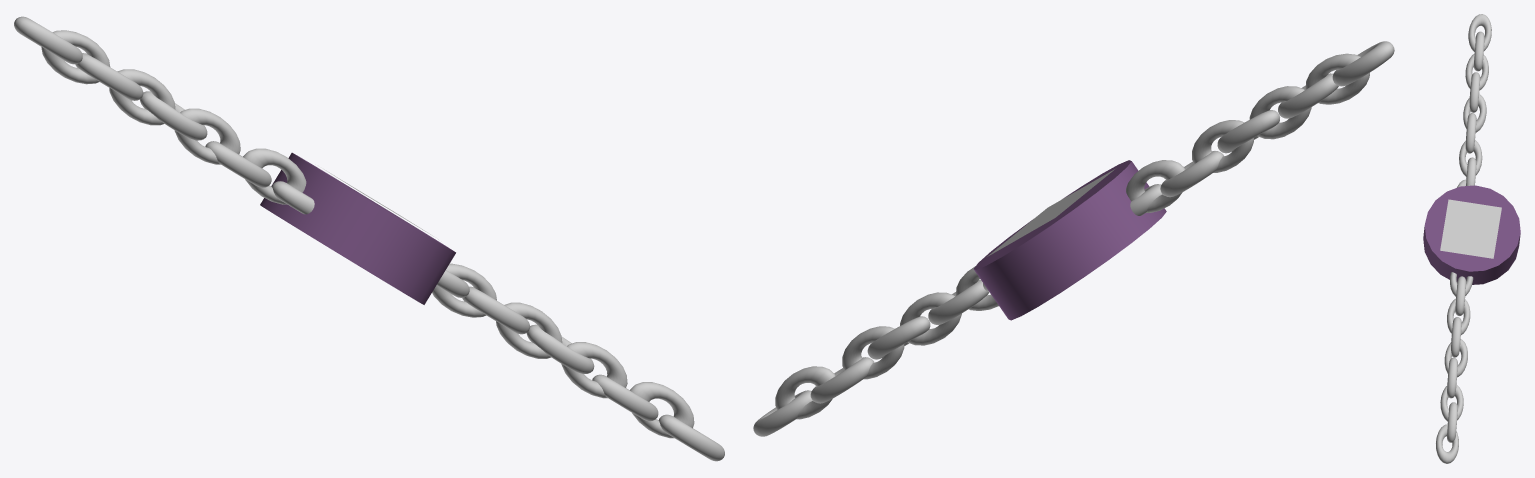
File: Project Name copy.obj
3 renders of one model, left to right at view 1: azimuth 30°, elevation 25°; view 2: azimuth 150°, elevation 25°; view 3: azimuth 270°, elevation 25°, orthographic. The views are drawn at different scales.
Parts seen in each view (by area): view 1: 000_Cylinder_40, 002_Torus_3, 011_Torus_3, 008_Torus_5, 017_Torus_5, 006_Torus_7, 013_Torus_9, 004_Torus_9, 015_Torus_7, 009_Torus_8, 005_Torus_4, 014_Torus_4 (+6 smaller); view 2: 000_Cylinder_40, 013_Torus_9, 011_Torus_3, 002_Torus_3, 004_Torus_9, 006_Torus_7, 017_Torus_5, 008_Torus_5, 009_Torus_8, 016_Torus_2, 007_Torus_2, 014_Torus_4 (+5 smaller); view 3: 000_Cylinder_40, 001_Image_Plane, 009_Torus_8, 019_Torus_10, 012_Torus_6, 016_Torus_2, 007_Torus_2, 005_Torus_4, 003_Torus_6, 014_Torus_4, 002_Torus_3, 017_Torus_5 (+7 smaller).
Part boxes in pixels (box(x1,y1,x2,y2)): 000_Cylinder_40: box(260, 152, 455, 304); 002_Torus_3: box(174, 108, 240, 164); 011_Torus_3: box(561, 342, 627, 398); 008_Torus_5: box(109, 69, 175, 125); 017_Torus_5: box(496, 302, 562, 358); 006_Torus_7: box(41, 30, 110, 84); 013_Torus_9: box(630, 382, 694, 438); 004_Torus_9: box(243, 148, 306, 204); 015_Torus_7: box(432, 263, 496, 317); 009_Torus_8: box(14, 16, 82, 64); 005_Torus_4: box(139, 91, 207, 140); 014_Torus_4: box(526, 324, 594, 373); 000_Cylinder_40: box(973, 160, 1166, 320); 013_Torus_9: box(775, 366, 835, 419); 011_Torus_3: box(842, 326, 904, 379); 002_Torus_3: box(1192, 120, 1253, 172); 004_Torus_9: box(1126, 160, 1185, 212); 006_Torus_7: box(1305, 53, 1369, 104); 017_Torus_5: box(900, 292, 961, 345); 008_Torus_5: box(1249, 86, 1311, 139); 009_Torus_8: box(1332, 41, 1394, 86); 016_Torus_2: box(810, 357, 874, 403); 007_Torus_2: box(1160, 151, 1223, 197); 014_Torus_4: box(867, 316, 930, 359); 000_Cylinder_40: box(1423, 185, 1520, 284); 001_Image_Plane: box(1440, 199, 1501, 258); 009_Torus_8: box(1468, 14, 1491, 51); 019_Torus_10: box(1436, 424, 1458, 463); 012_Torus_6: box(1447, 298, 1470, 334); 016_Torus_2: box(1440, 384, 1463, 421); 007_Torus_2: box(1459, 140, 1482, 176); 005_Torus_4: box(1463, 94, 1486, 132); 003_Torus_6: box(1465, 54, 1488, 90); 014_Torus_4: box(1444, 339, 1467, 377); 002_Torus_3: box(1465, 113, 1476, 153); 017_Torus_5: box(1451, 317, 1461, 357).
Bounding box in the file's own units: 120 × 98.33 × 30.13.
